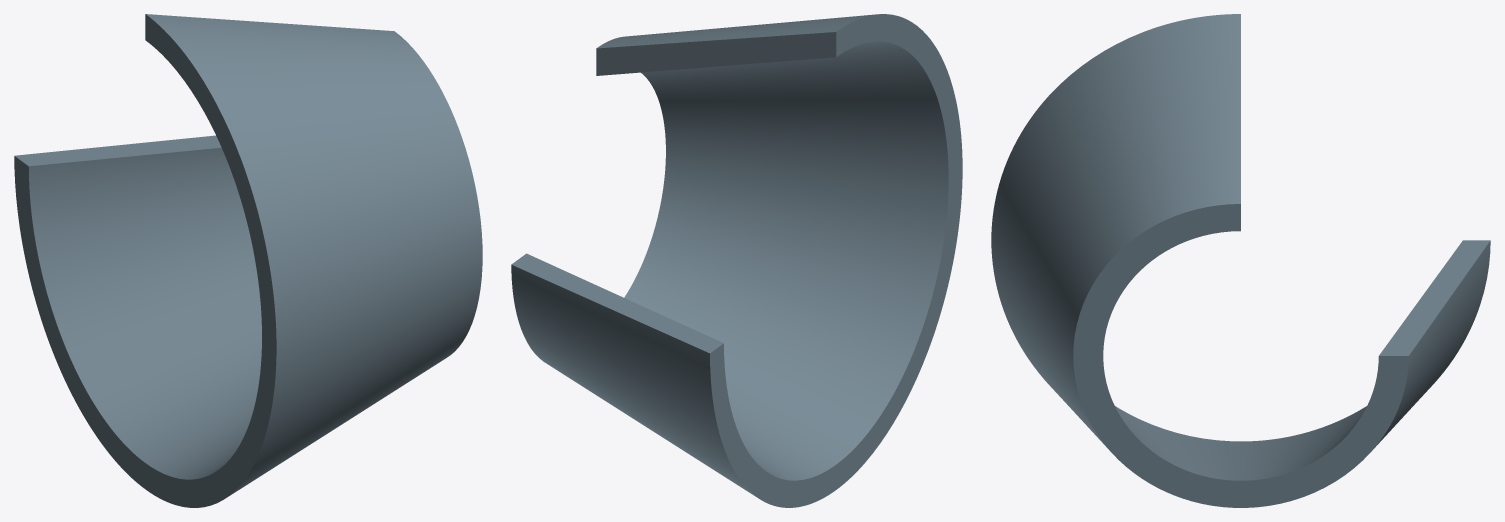
File: nozzle-housing.glb
3 renders of one model, left to right at view 1: azimuth 30°, elevation 25°; view 2: azimuth 150°, elevation 25°; view 3: azimuth 270°, elevation 25°, orthographic. The views are drawn at different scales.
Visible parts, largest first — view 1: nozzle-housing - shell; view 2: nozzle-housing - shell; view 3: nozzle-housing - shell.
Boxes of the visible parts, <box> form: nozzle-housing - shell: <box>14,14,482,507</box>; nozzle-housing - shell: <box>511,14,962,507</box>; nozzle-housing - shell: <box>991,14,1490,507</box>.
Bounding box in the file's own units: 1.02 × 1.86 × 1.86.
